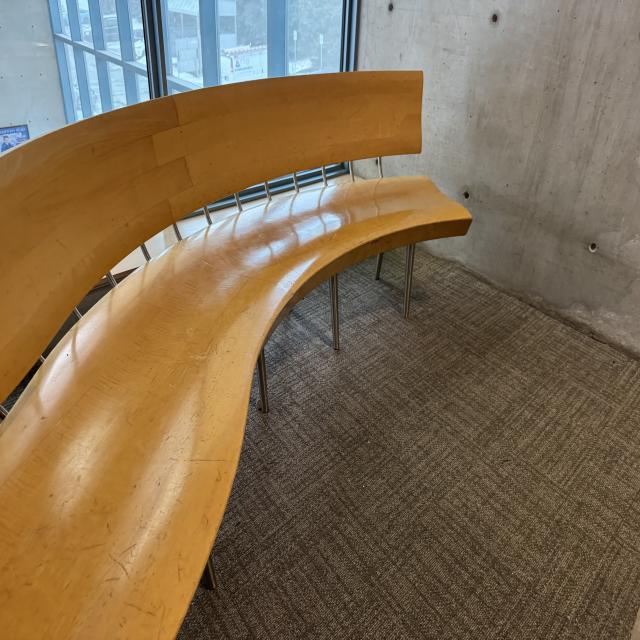Bench: (4, 56, 433, 638)
